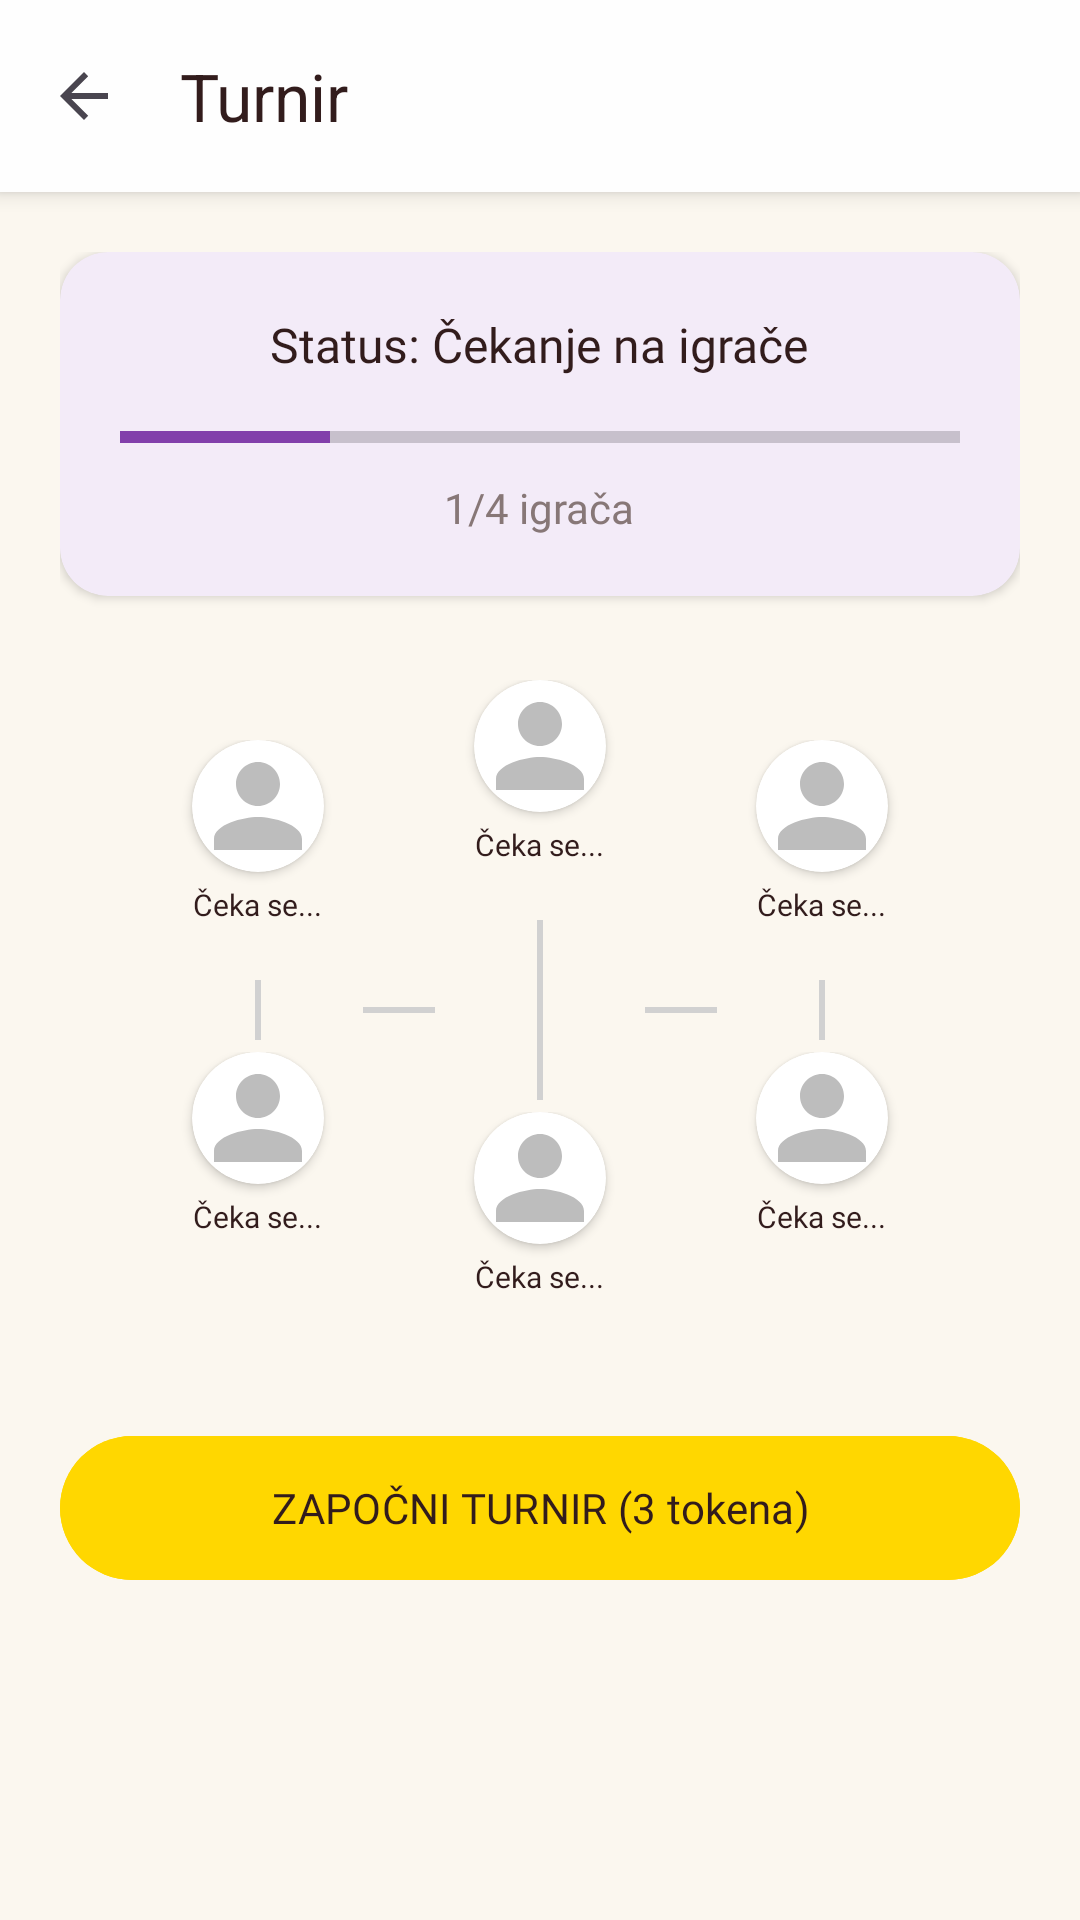

Named icons in this screenshot (1080×1920) and their centers, point (x, y):
Avatar: point (540, 746), point (258, 806), point (822, 806), point (258, 1118), point (822, 1118), point (540, 1178)
